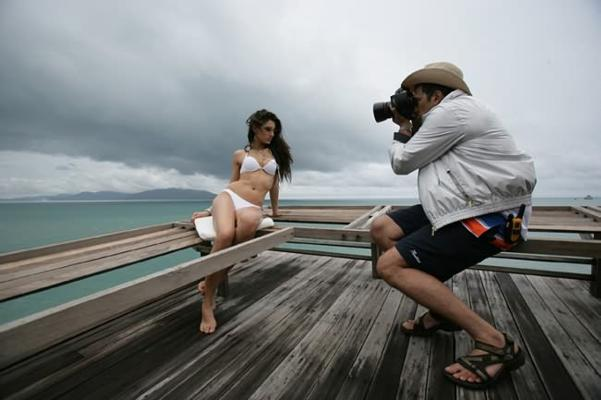person: (372, 66, 537, 384)
